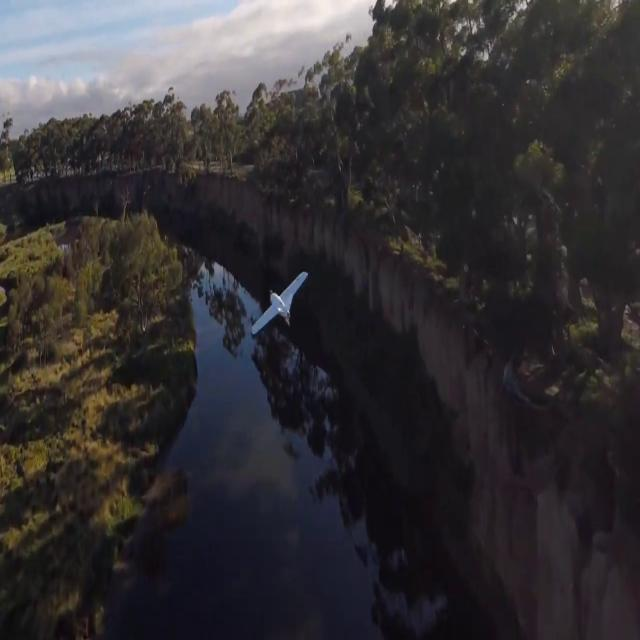iha: (252, 301, 310, 304)
